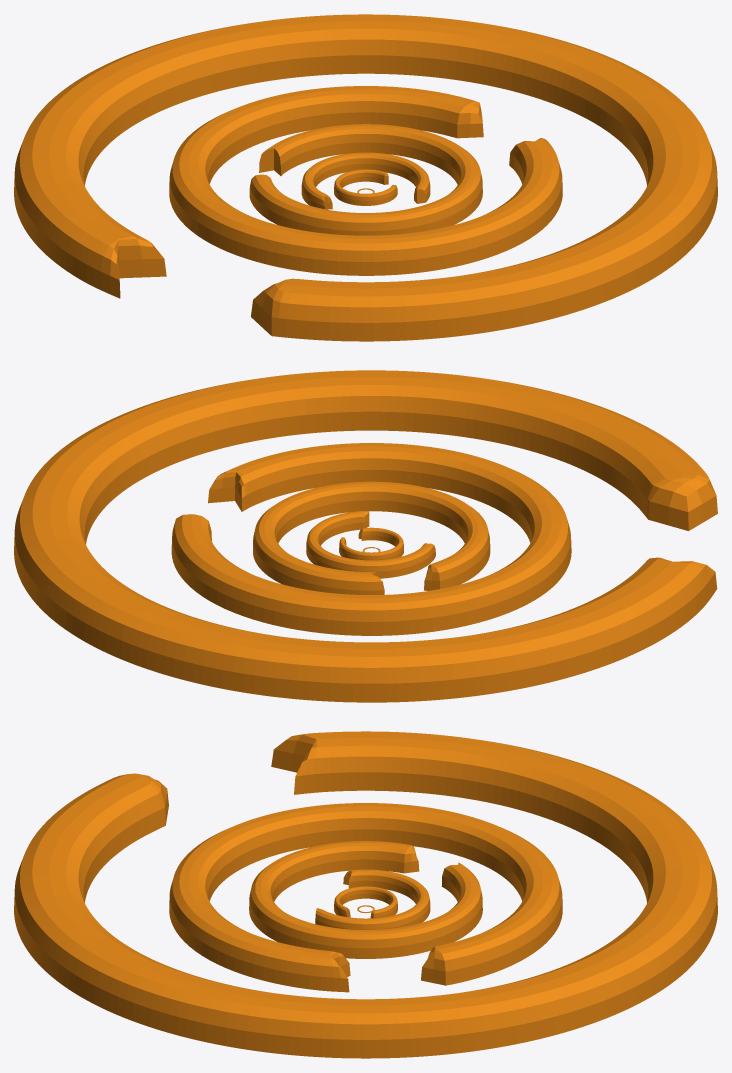
Rendered from hireco_3DScene_beveled-v1.glb.
3 renders of one model, top to bottom at view 1: azimuth 30°, elevation 25°; view 2: azimuth 150°, elevation 25°; view 3: azimuth 270°, elevation 25°, orthographic.
Parts seen in each view (by area): view 1: ring_6, ring_5, ring_4, ring_3, ring_2; view 2: ring_6, ring_5, ring_4, ring_3, ring_2; view 3: ring_6, ring_5, ring_4, ring_3, ring_2.
Boxes of the visible parts, left/top/right/bottom form: ring_6: left=14, top=14, right=717, bottom=341; ring_5: left=169, top=86, right=562, bottom=275; ring_4: left=249, top=124, right=482, bottom=235; ring_3: left=301, top=152, right=430, bottom=209; ring_2: left=334, top=169, right=397, bottom=205; ring_6: left=14, top=370, right=717, bottom=702; ring_5: left=171, top=443, right=571, bottom=635; ring_4: left=253, top=481, right=490, bottom=594; ring_3: left=306, top=510, right=435, bottom=578; ring_2: left=339, top=527, right=403, bottom=560; ring_6: left=14, top=731, right=717, bottom=1058; ring_5: left=169, top=803, right=562, bottom=992; ring_4: left=249, top=841, right=482, bottom=958; ring_3: left=315, top=869, right=430, bottom=929; ring_2: left=334, top=886, right=397, bottom=918.
Bounding box in the file's own units: 1.55 × 0.0925 × 1.55.
